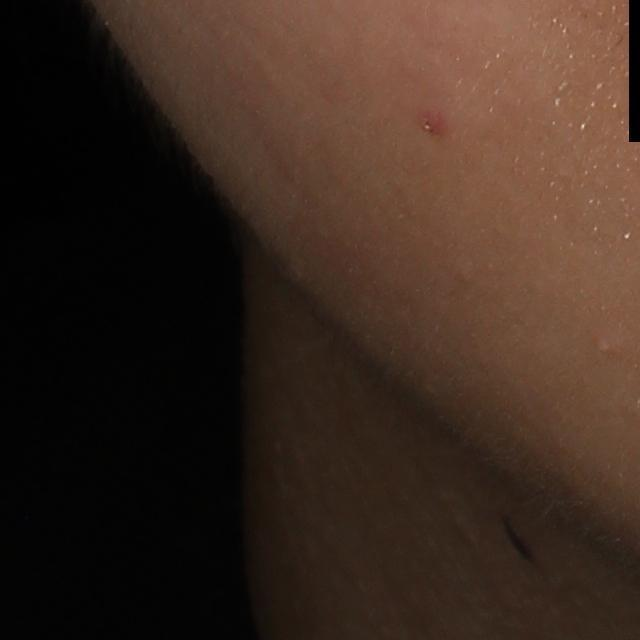comedo: (593, 337, 610, 355)
papule: (416, 106, 451, 142)
